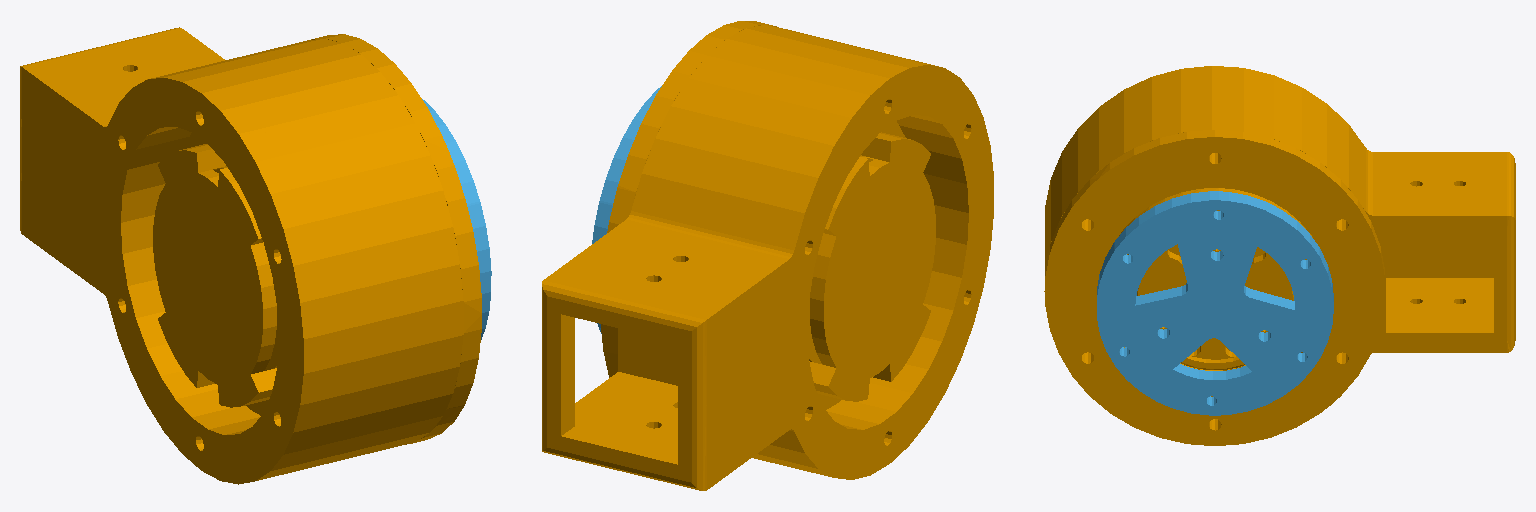
robot.urdf — Assem_4305_JOINT:
<?xml version='1.0' encoding='UTF-8'?>
<robot name="Assem_4305_JOINT">
  <link name="motor4305_link">
    <inertial>
      <origin xyz="0.0042941 1.4489e-06 0.034665" rpy="0.0 -0.0 0.0"/>
      <mass value="0.48076"/>
      <inertia ixx="0.0004787" ixy="5.7034e-09" ixz="-5.2375e-06" iyy="0.000333" iyz="1.5111e-08" izz="0.00023888"/>
    </inertial>
    <visual>
      <geometry>
        <mesh filename="../assets/Assem_4305_JOINT/Assem_4305_JOINT/meshes/motor4305_link.STL"/>
      </geometry>
      <origin xyz="0.0 0.0 0.0" rpy="0.0 -0.0 0.0"/>
    </visual>
    <collision name="">
      <geometry>
        <mesh filename="../assets/Assem_4305_JOINT/Assem_4305_JOINT/meshes/motor4305_link.STL"/>
      </geometry>
      <origin xyz="0.0 0.0 0.0" rpy="0.0 -0.0 0.0"/>
    </collision>
  </link>
  <link name="motor4305_out_link">
    <inertial>
      <origin xyz="-1.3533e-08 -0.0025 -3.5182e-09" rpy="0.0 -0.0 0.0"/>
      <mass value="0.026746"/>
      <inertia ixx="5.4686e-06" ixy="4.832e-22" ixz="-3.7058e-22" iyy="1.0826e-05" iyz="-3.2034e-22" izz="5.4686e-06"/>
    </inertial>
    <visual>
      <geometry>
        <mesh filename="../assets/Assem_4305_JOINT/Assem_4305_JOINT/meshes/motor4305_out_link.STL"/>
      </geometry>
      <origin xyz="0.0 0.0 0.0" rpy="0.0 -0.0 0.0"/>
    </visual>
    <collision name="">
      <geometry>
        <mesh filename="../assets/Assem_4305_JOINT/Assem_4305_JOINT/meshes/motor4305_out_link.STL"/>
      </geometry>
      <origin xyz="0.0 0.0 0.0" rpy="0.0 -0.0 0.0"/>
    </collision>
  </link>
  <joint name="motor4305_rev_joint" type="revolute">
    <limit effort="0.0" velocity="0.0" lower="0.0" upper="0.0"/>
    <parent link="motor4305_link"/>
    <child link="motor4305_out_link"/>
    <axis xyz="0. 0. 1."/>
    <origin xyz="0.0255 -0.0395 0.0" rpy="0.0 0.032991999999999994 1.5708"/>
  </joint>
</robot>

--- Render facts (derived) ---
Views: 3 orthographic renders of the robot side by side, from view 1: azimuth 30°, elevation 25°; view 2: azimuth 150°, elevation 25°; view 3: azimuth 270°, elevation 25°.
Robot: Assem_4305_JOINT — 2 links, 1 joints (1 revolute); root link motor4305_link; default pose: every joint at zero.
Links seen in each view (by area): view 1: motor4305_link, motor4305_out_link; view 2: motor4305_link, motor4305_out_link; view 3: motor4305_link, motor4305_out_link.
Link boxes in pixels (x1,y1,x2,y2): motor4305_link: [20, 27, 481, 484]; motor4305_out_link: [422, 99, 491, 339]; motor4305_link: [542, 21, 993, 490]; motor4305_out_link: [592, 86, 661, 333]; motor4305_link: [1044, 66, 1515, 445]; motor4305_out_link: [1097, 191, 1333, 415].
Size in the robot's own frame: 0.048 by 0.109 by 0.079 metres.
2 mesh visuals loaded from 2 distinct referenced files (2 binary STL).